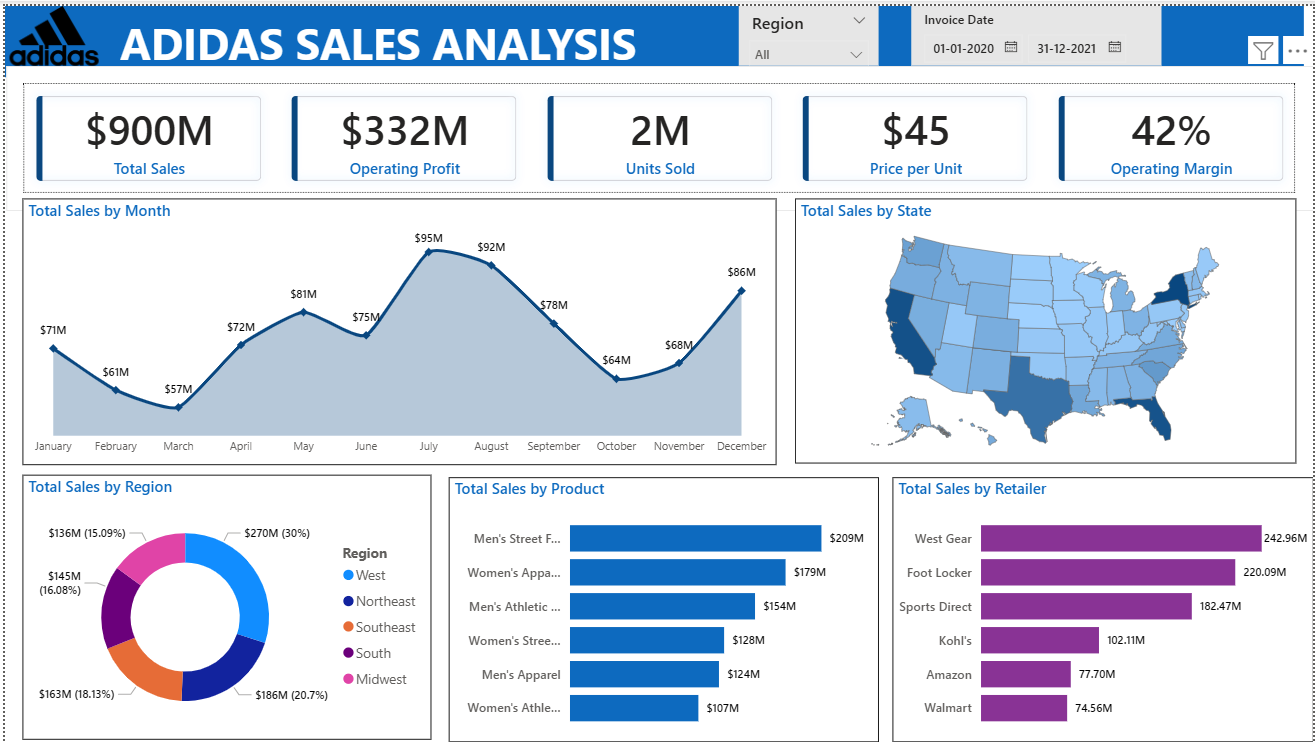

The dashboard page shown, as its layout file describes it:
{"tool":"powerbi","page":{"name":"Page 1","canvas":[1280,720],"ordinal":0},"visuals":[{"type":"shape","box":[0,0,1270.5,69.7],"z":0},{"type":"textbox","box":[107.6,1.2,528.3,69.7],"z":1000},{"type":"cardVisual","fields":{"Data":["Sum(Data Sales Adidas.Total Sales)","Sum(Data Sales Adidas.Operating Profit)","Sum(Data Sales Adidas.Units Sold)","Avg(Data Sales Adidas.Price per Unit)","Avg(Data Sales Adidas.Operating Margin)"]},"box":[1.2,58.7,1279.1,141.8],"z":2000},{"type":"areaChart","title":"Total Sales by Month","fields":{"Category":["Data Sales Adidas.Invoice Date.Variation.Date Hierarchy.Month"],"Y":["Sum(Data Sales Adidas.Total Sales)"]},"box":[17.1,188.3,737.4,260.5],"z":3000},{"type":"shapeMap","title":"Total Sales by State","fields":{"Category":["Data Sales Adidas.State"],"Value":["Sum(Data Sales Adidas.Total Sales)"]},"box":[772.8,188.3,490.4,259.2],"z":4000},{"type":"donutChart","fields":{"Y":["Sum(Data Sales Adidas.Total Sales)"],"Category":["Data Sales Adidas.Region"]},"box":[17.1,458.6,400,259.2],"z":5000},{"type":"clusteredBarChart","title":"Total Sales by Product","fields":{"Category":["Data Sales Adidas.Product"],"Y":["Sum(Data Sales Adidas.Total Sales)"]},"box":[434.1,461,420.7,259.2],"z":6000},{"type":"clusteredBarChart","title":"Total Sales by Retailer","fields":{"Category":["Data Sales Adidas.Retailer"],"Y":["Sum(Data Sales Adidas.Total Sales)"]},"box":[868.2,461,412.1,259.2],"z":7000},{"type":"slicer","fields":{"Values":["Data Sales Adidas.Region"]},"box":[717.8,0,137,58.7],"z":8000},{"type":"slicer","fields":{"Values":["Data Sales Adidas.Invoice Date"]},"box":[886.6,0,244.6,58.7],"z":9000},{"type":"image","box":[1.2,0,92.9,58.7],"z":9001}]}

Visuals, with their boxes in screenshot pixels (x1, y1, x2, y2), scaled from the page's 1280x720 canvas onto the 1315x742 screenshot:
shape: <box>0,0,1305,72</box>
textbox: <box>111,1,653,73</box>
cardVisual - Sum(Data Sales Adidas.Total Sales) x Sum(Data Sales Adidas.Operating Profit): <box>1,60,1314,207</box>
"Total Sales by Month" areaChart: <box>18,194,775,463</box>
"Total Sales by State" shapeMap: <box>794,194,1298,461</box>
donutChart - Sum(Data Sales Adidas.Total Sales) x Data Sales Adidas.Region: <box>18,473,429,740</box>
"Total Sales by Product" clusteredBarChart: <box>446,475,878,741</box>
"Total Sales by Retailer" clusteredBarChart: <box>892,475,1314,741</box>
slicer - Data Sales Adidas.Region: <box>737,0,878,60</box>
slicer - Data Sales Adidas.Invoice Date: <box>911,0,1162,60</box>
image: <box>1,0,97,60</box>
